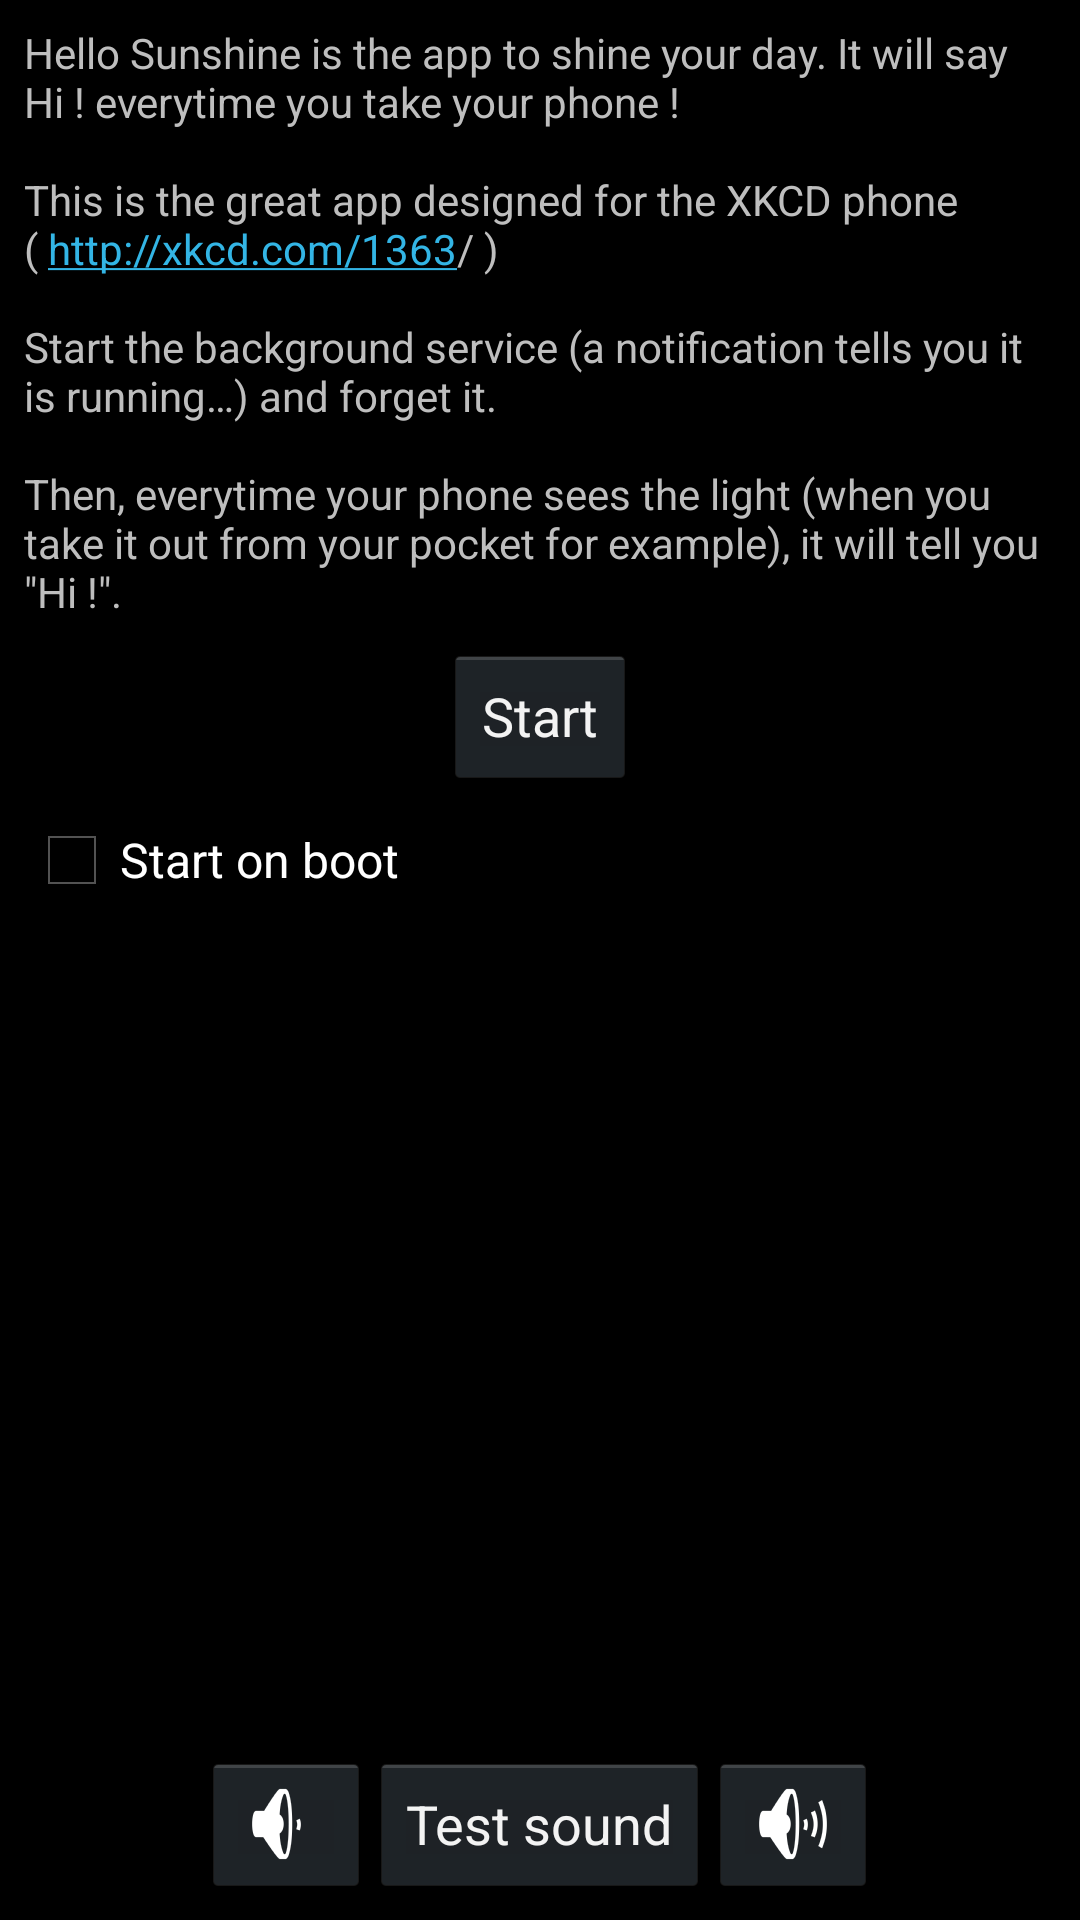

Icon click points for this 1080 × 1920 phone screenshot, format (x=x, y=y):
device access volume less: (x=286, y=1825)
device access volume more: (x=793, y=1825)
